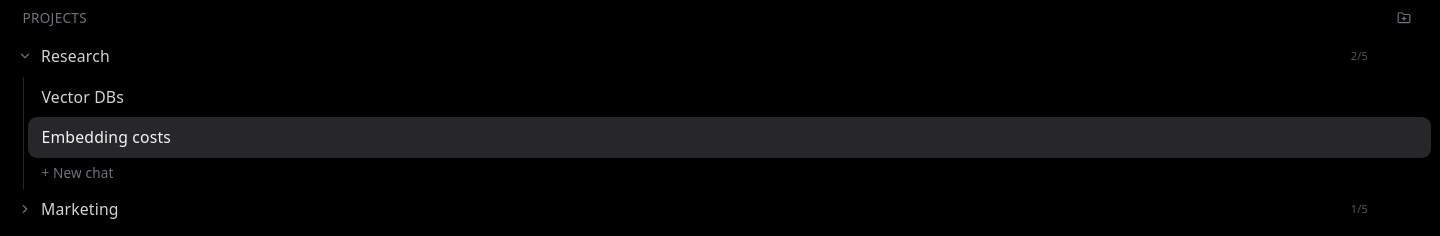
Test case: ProjectList › lets you collapse the project holding the active chat
Step 1. Click the button "Research 2/5" → (75, 56), box [9,36,1368,76]
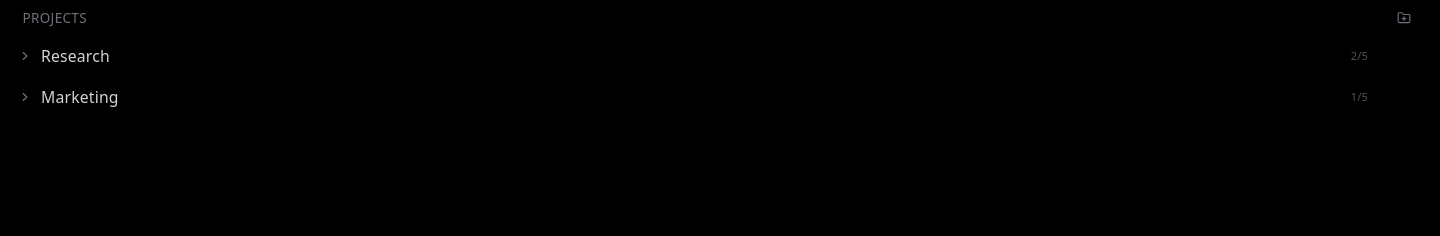
Result: the button "Embedding costs" is gone
